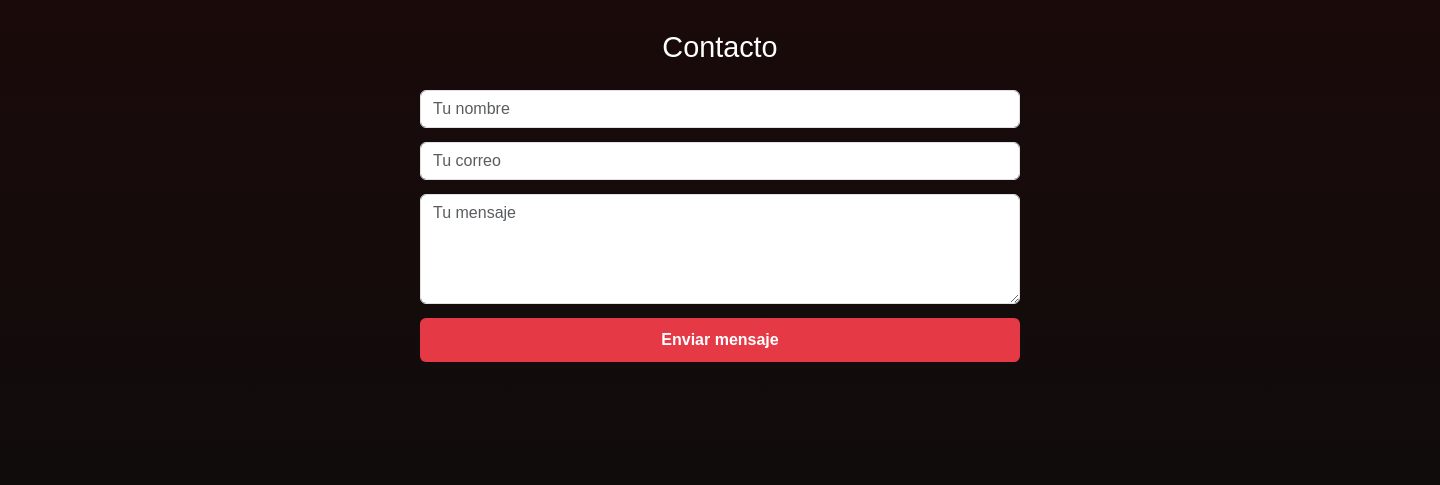
Test case: Contacto (página) › con datos inválidos muestra los tres errores y no confirma el envío
Type "Al" into the field with placeholder "Tu nombre" at (720, 108), box [420,90,1020,128]
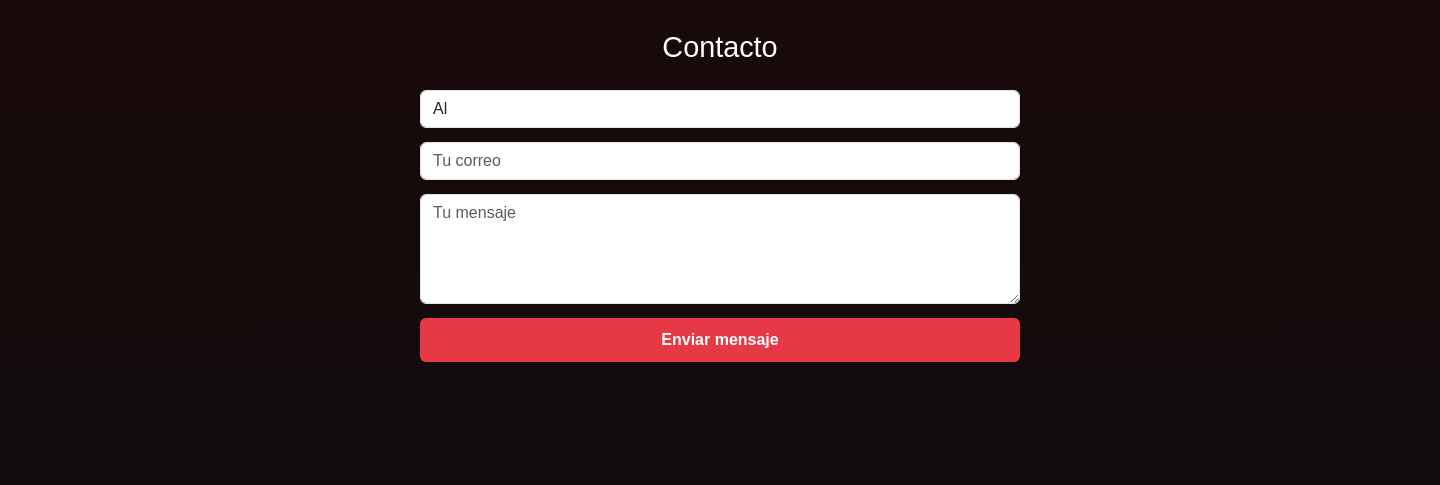
Type "corto" into the text box with placeholder "Tu mensaje" at (720, 248), box [420,194,1020,304]
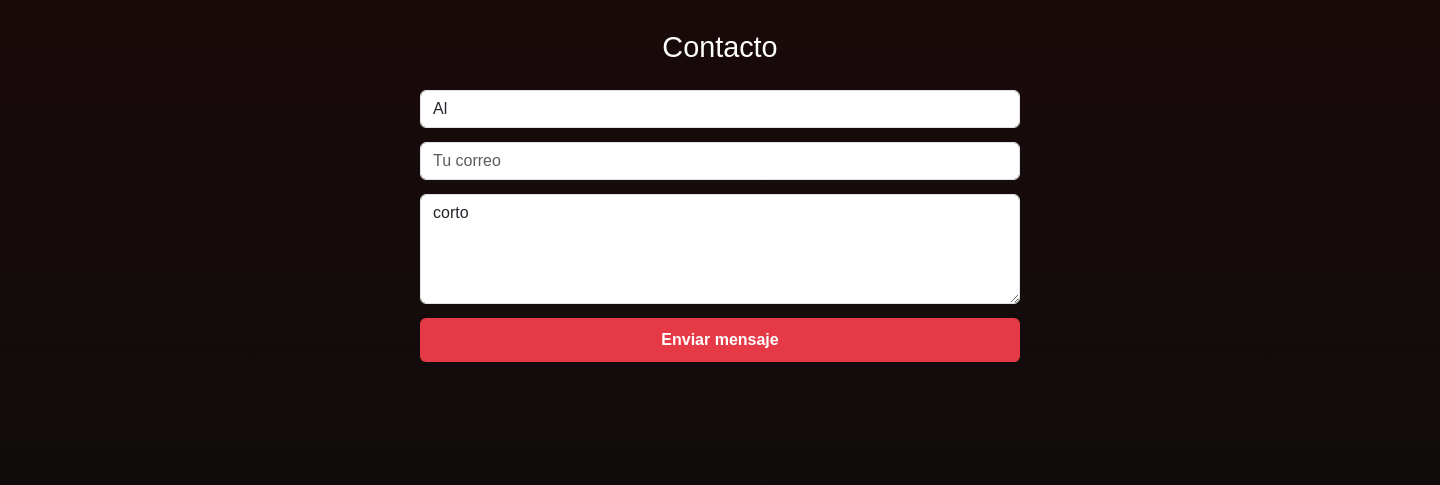
Click the button "Enviar mensaje" at (720, 340), box [420,318,1020,362]
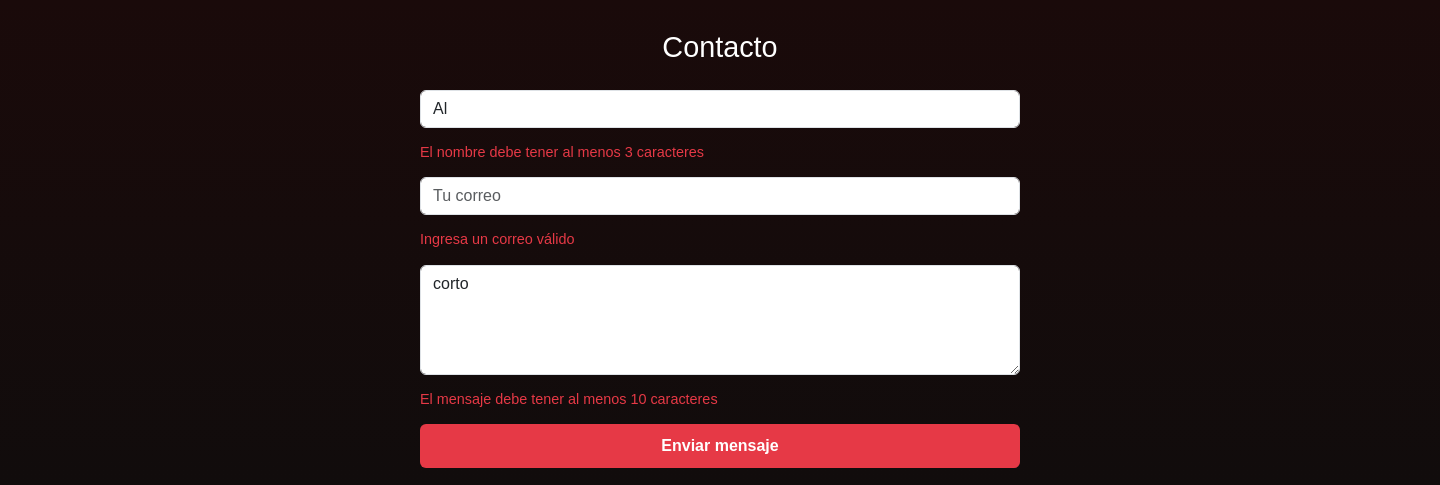
Result: the text "El nombre debe tener al menos 3 caracteres" is shown at [420,144,704,160]
Result: the text "Ingresa un correo válido" is shown at [420,231,574,247]
Result: the text "El mensaje debe tener al menos 10 caracteres" is shown at [420,391,718,407]
